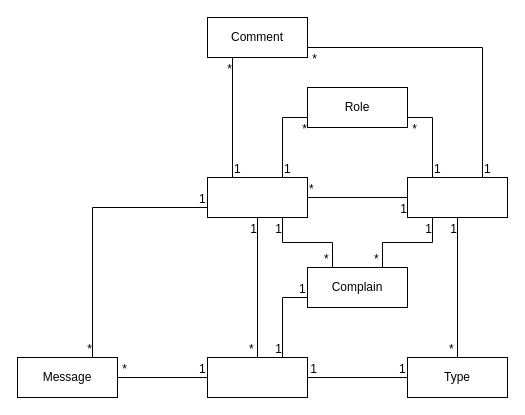
Image size: 525x415. Some labels were removed from this diagram. The centre of each missing label's shape, as x and y in pixels:
Company: the point at 457,197
Ticket: the point at 257,377
User: the point at 257,197
